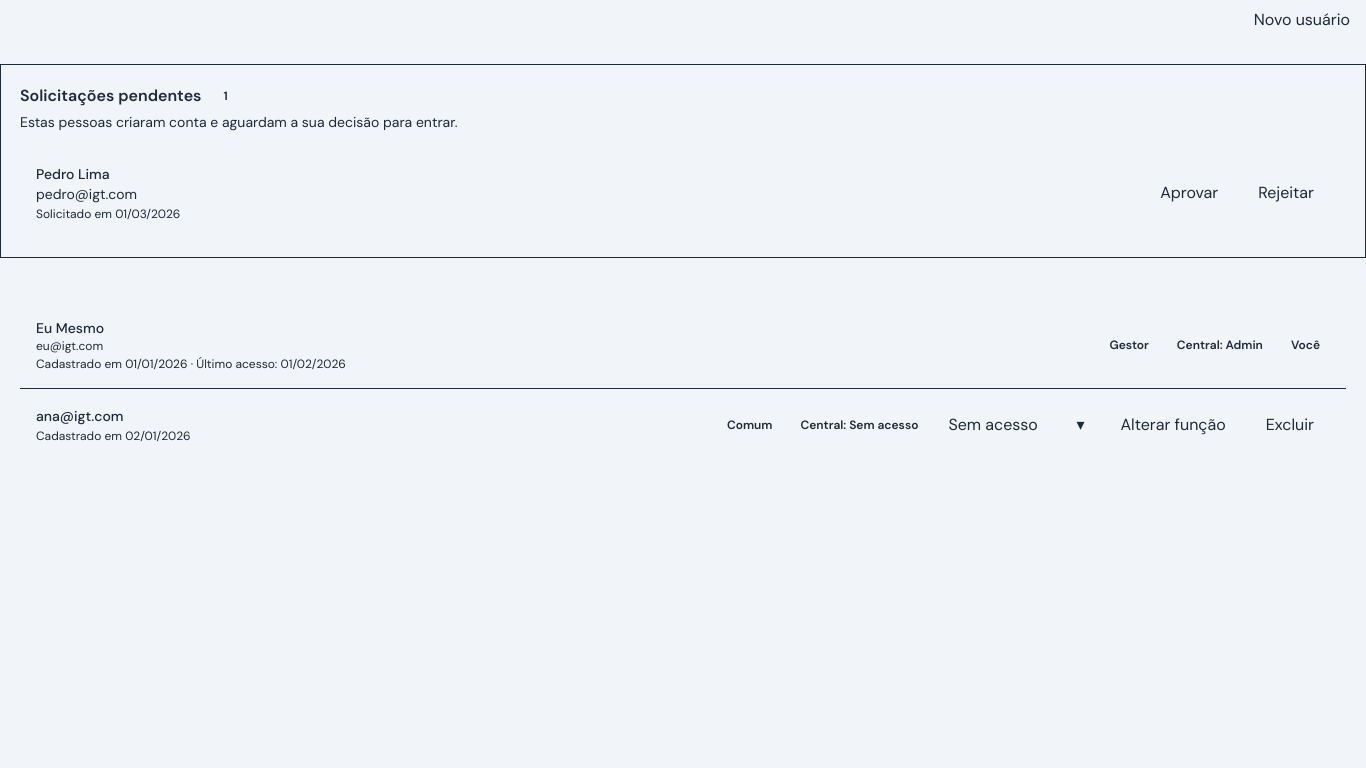
Usuários e acessos › erro da API ao aprovar aparece no diálogo e o diálogo continua aberto
Expected: the list named "Usuários com acesso" is shown, x1=20 y1=302 x2=1346 y2=461
Click the button with aria-label "Aprovar Pedro Lima" at x=1189, y=193, box x1=1144 y1=173 x2=1234 y2=213
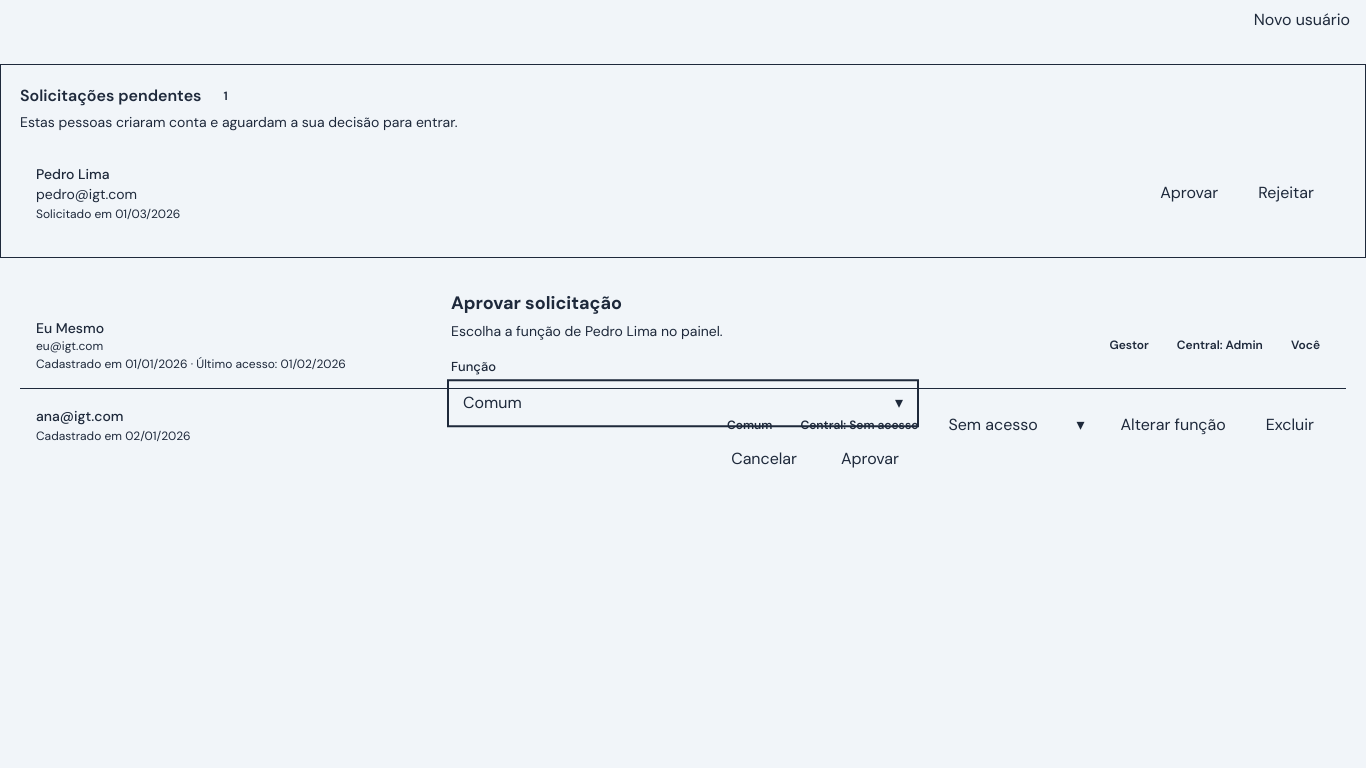
Click the button "Aprovar" at x=870, y=459, box x1=825 y1=439 x2=915 y2=479
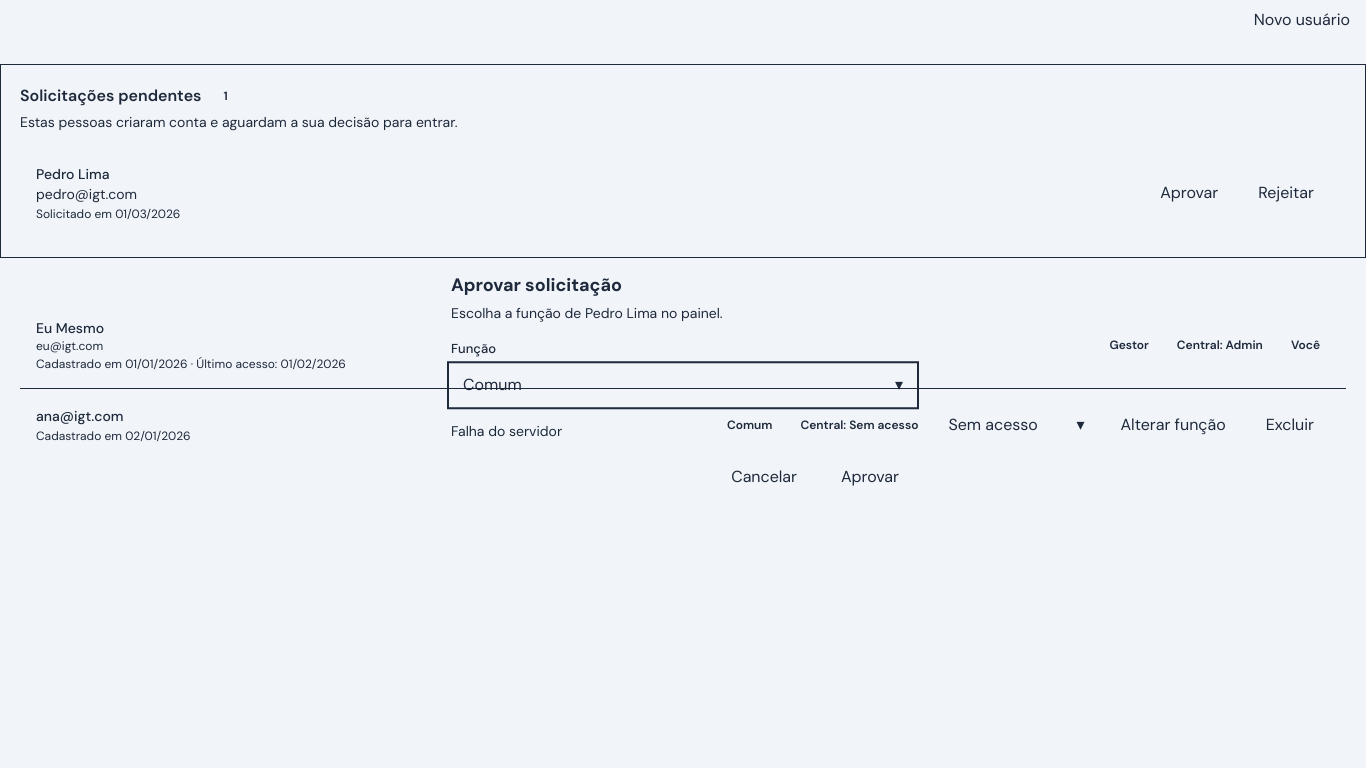
Expected: the message reads "Falha do servidor", x1=451 y1=422 x2=562 y2=440
